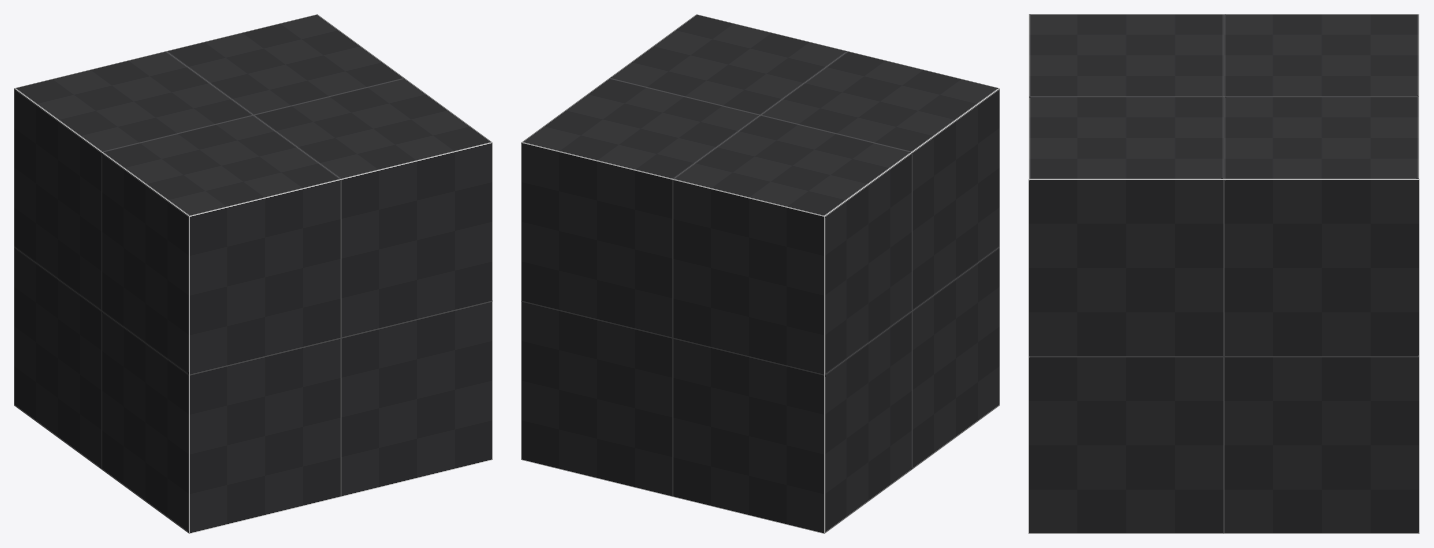
The model's file is Prototype Map - R1 - Cube7.glb.
3 views of the same model, side by side, from view 1: azimuth 30°, elevation 25°; view 2: azimuth 150°, elevation 25°; view 3: azimuth 270°, elevation 25° (orthographic). The views are drawn at different scales.
Parts seen in each view (by area): view 1: Cube7.LG; view 2: Cube7.LG; view 3: Cube7.LG.
Part boxes in pixels (<box>): Cube7.LG: <box>14,14,492,533</box>; Cube7.LG: <box>521,14,999,533</box>; Cube7.LG: <box>1028,14,1419,533</box>.
Bounding box in the file's own units: 2 × 2 × 2.
Materials: 1 (1 with a texture image).
